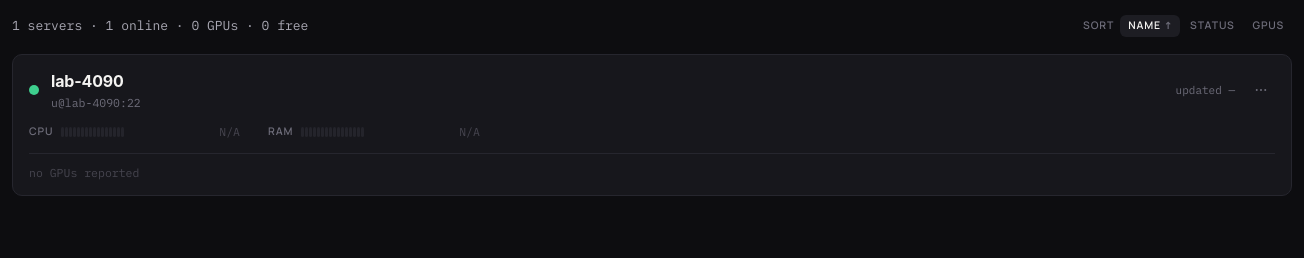
Test: fleet machine panel: row menu › test connection shows the latency chip on success
Click the button named "Server actions: lab-4090". click: click(1261, 90)
box: [1247,76,1275,104]
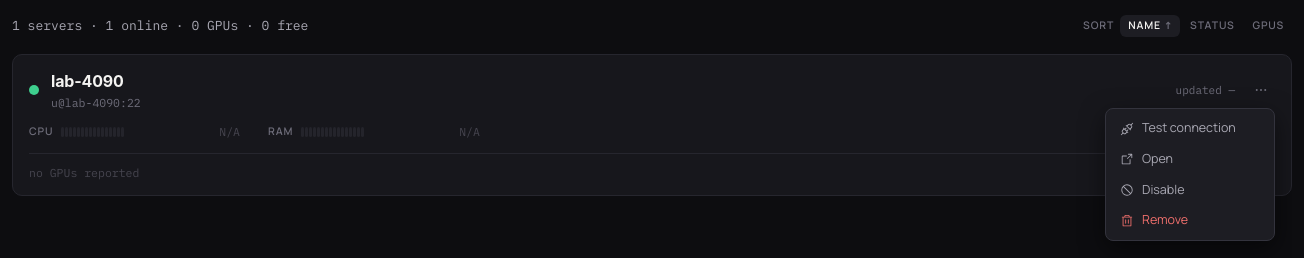
Click the menu item "Test connection". click: click(1190, 128)
box: [1110,113,1270,144]
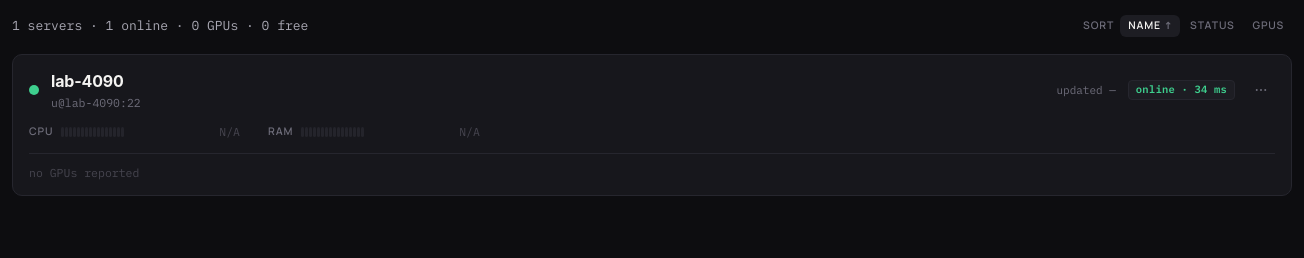
Now the text "online · 34 ms" is shown, box [1128,80,1235,100]
